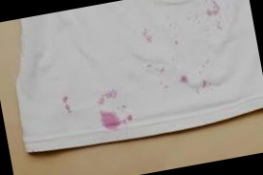wine: (94, 104, 126, 133), (202, 0, 229, 22), (60, 90, 80, 116), (159, 11, 178, 32), (140, 25, 156, 47), (95, 91, 118, 106), (170, 38, 184, 49), (197, 78, 210, 89), (187, 15, 200, 26), (158, 77, 169, 88), (178, 74, 190, 83), (201, 56, 212, 65), (146, 62, 155, 71), (194, 68, 203, 77), (127, 115, 135, 122), (158, 67, 165, 74)
